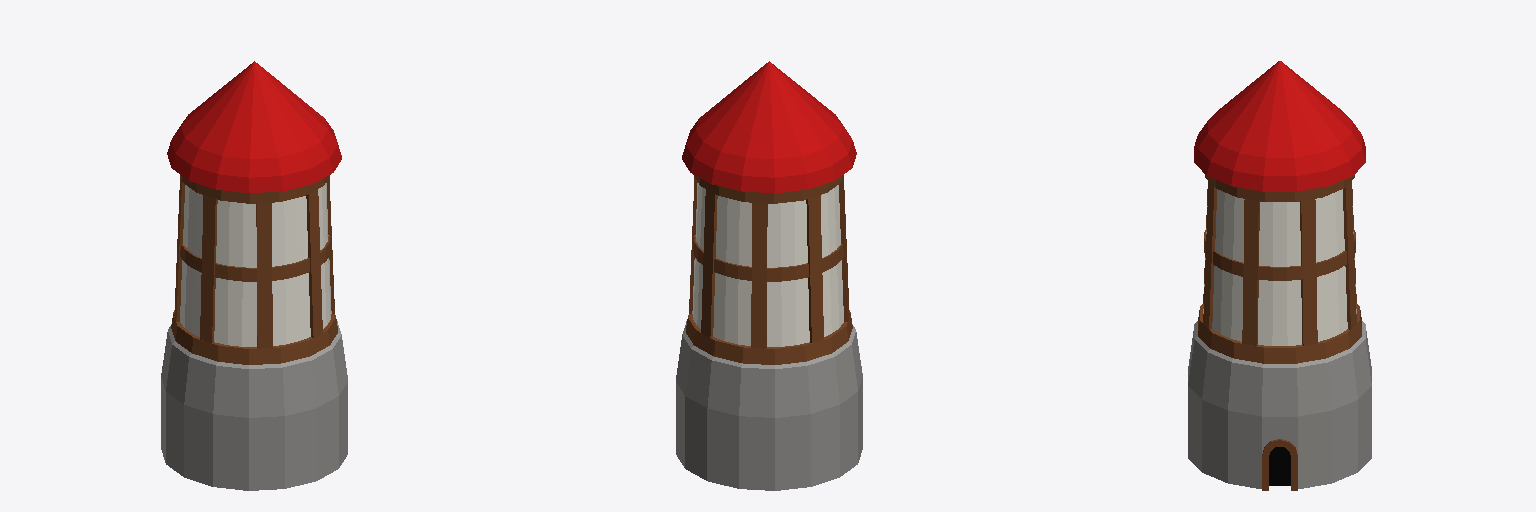
Rendered from Prop_Decorative_Windmill_Building_2.obj.
The picture shows the model from 3 angles: view 1: azimuth 30°, elevation 25°; view 2: azimuth 150°, elevation 25°; view 3: azimuth 270°, elevation 25°; orthographic projection.
Parts seen in each view (by area): view 1: Base, Red, Wall, Wood_Brace, Wood_Band, object1; view 2: Base, Red, Wall, Wood_Brace, Wood_Band, object1; view 3: Base, Red, Wall, Wood_Brace, Wood_Band, object1, Doorframe, Entrance.
Part boxes in pixels (left/top/right/bottom): Base: left=161, top=321, right=347, bottom=490; Red: left=167, top=61, right=341, bottom=192; Wall: left=180, top=183, right=331, bottom=346; Wood_Brace: left=174, top=177, right=334, bottom=348; Wood_Band: left=171, top=174, right=337, bottom=364; object1: left=180, top=236, right=330, bottom=281; Base: left=676, top=321, right=862, bottom=490; Red: left=682, top=61, right=856, bottom=192; Wall: left=692, top=183, right=843, bottom=346; Wood_Brace: left=689, top=177, right=849, bottom=348; Wood_Band: left=686, top=174, right=852, bottom=364; object1: left=693, top=236, right=843, bottom=281; Base: left=1188, top=321, right=1371, bottom=488; Red: left=1194, top=61, right=1365, bottom=191; Wall: left=1203, top=189, right=1356, bottom=345; Wood_Brace: left=1203, top=181, right=1356, bottom=345; Wood_Band: left=1198, top=175, right=1361, bottom=363; object1: left=1204, top=228, right=1355, bottom=280; Doorframe: left=1262, top=439, right=1297, bottom=490; Entrance: left=1269, top=447, right=1290, bottom=485.
Bounding box in the file's own units: 3.25 × 7.49 × 3.2.